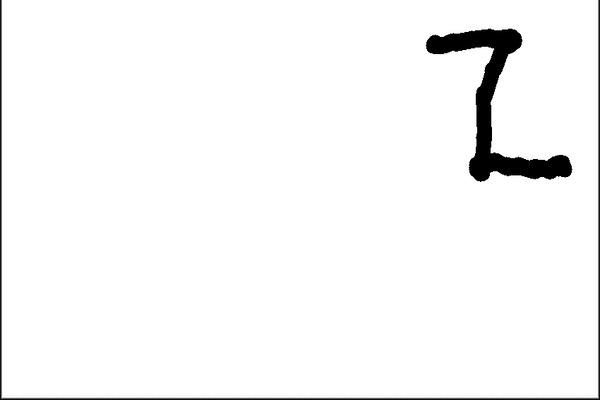Z: (415, 19, 580, 190)
